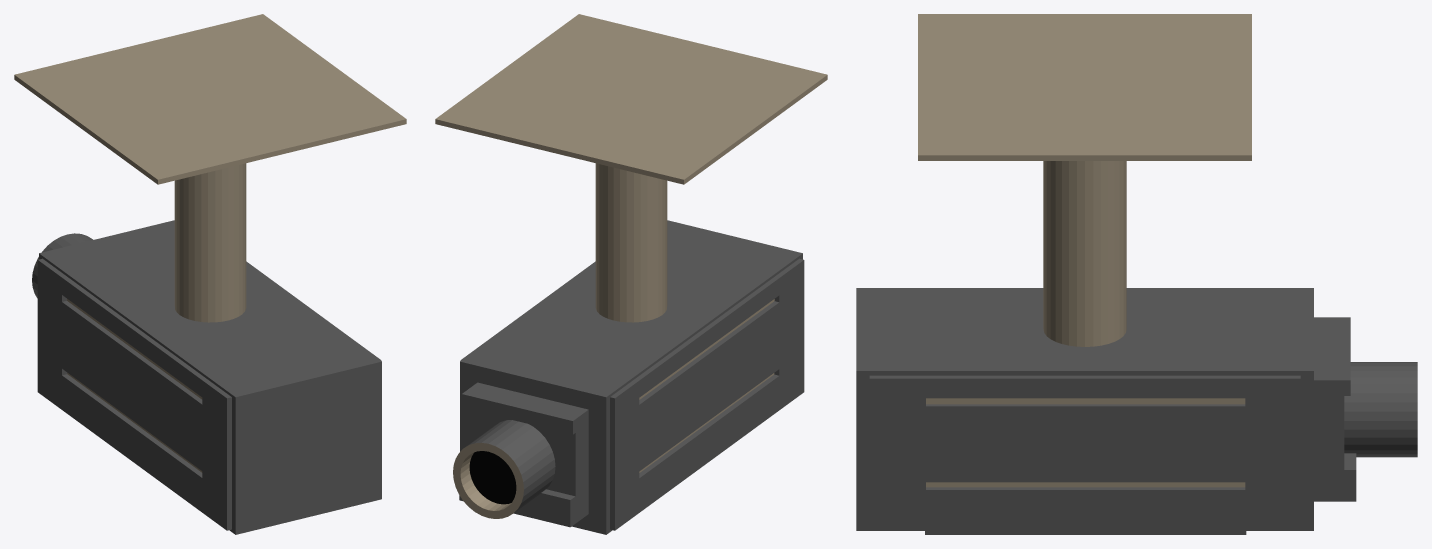
Rendered from surveillacne camera.fbx.
3 views of the same model, side by side, from view 1: azimuth 30°, elevation 25°; view 2: azimuth 150°, elevation 25°; view 3: azimuth 270°, elevation 25° (orthographic). The views are drawn at different scales.
Parts seen in each view (by area): view 1: Cube, Cube.001, Cylinder.001, Cylinder; view 2: Cube, Cube.001, Cylinder.001, Cylinder; view 3: Cube, Cube.001, Cylinder.001, Cylinder.
Boxes of the visible parts, bbox=[...] form: Cube: bbox=[37, 220, 381, 534]; Cube.001: bbox=[14, 14, 406, 184]; Cylinder.001: bbox=[174, 163, 246, 322]; Cylinder: bbox=[32, 233, 93, 298]; Cube: bbox=[459, 220, 804, 534]; Cube.001: bbox=[435, 14, 827, 184]; Cylinder.001: bbox=[595, 163, 667, 322]; Cylinder: bbox=[453, 420, 555, 518]; Cube: bbox=[856, 288, 1356, 534]; Cube.001: bbox=[918, 14, 1251, 160]; Cylinder.001: bbox=[1043, 161, 1126, 346]; Cylinder: bbox=[1344, 362, 1417, 457].
Bounding box in the file's own units: 200 × 272 × 336.
